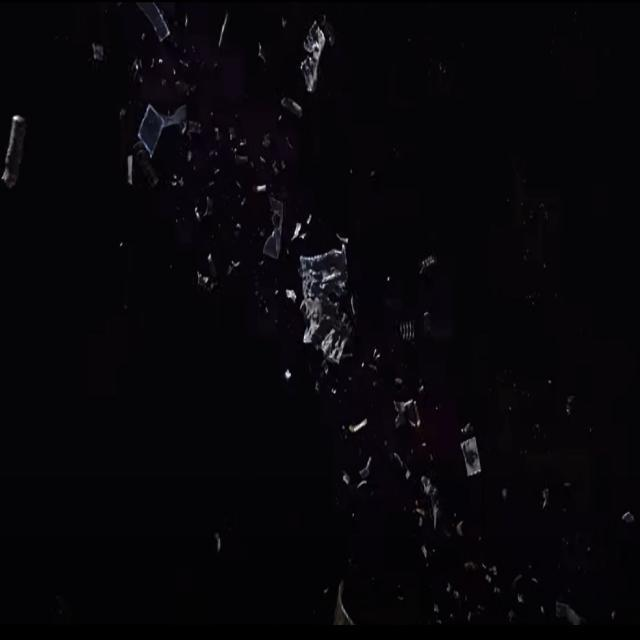large_debris: (301, 231, 353, 360), (296, 12, 340, 92), (134, 103, 192, 149), (2, 109, 30, 187), (128, 0, 173, 47), (261, 200, 289, 260), (330, 575, 358, 633), (547, 590, 586, 630), (392, 394, 426, 438), (457, 437, 484, 484), (213, 11, 239, 53), (419, 245, 440, 285), (293, 210, 316, 244), (196, 261, 219, 295), (345, 413, 375, 438), (283, 366, 305, 398), (123, 152, 143, 186), (90, 39, 110, 71), (398, 317, 420, 345), (359, 456, 375, 494), (564, 392, 580, 424), (251, 180, 275, 199), (420, 465, 437, 491), (283, 282, 299, 308), (435, 500, 446, 535), (288, 95, 306, 115), (414, 501, 426, 527), (456, 519, 468, 539), (257, 37, 267, 61), (376, 340, 386, 362), (462, 417, 472, 437), (260, 128, 274, 142), (391, 452, 405, 465), (342, 466, 350, 486), (431, 598, 441, 612), (491, 564, 501, 577), (424, 544, 433, 557), (403, 470, 413, 476)
